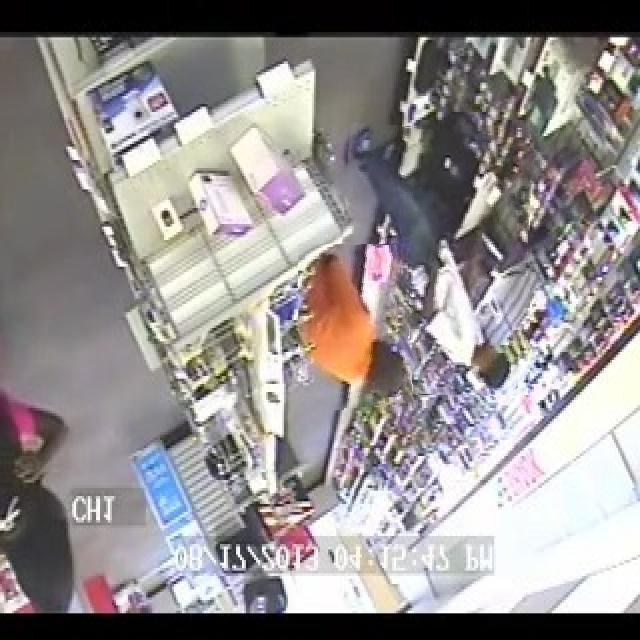Normal: (337, 125, 530, 395), (298, 244, 412, 410)
